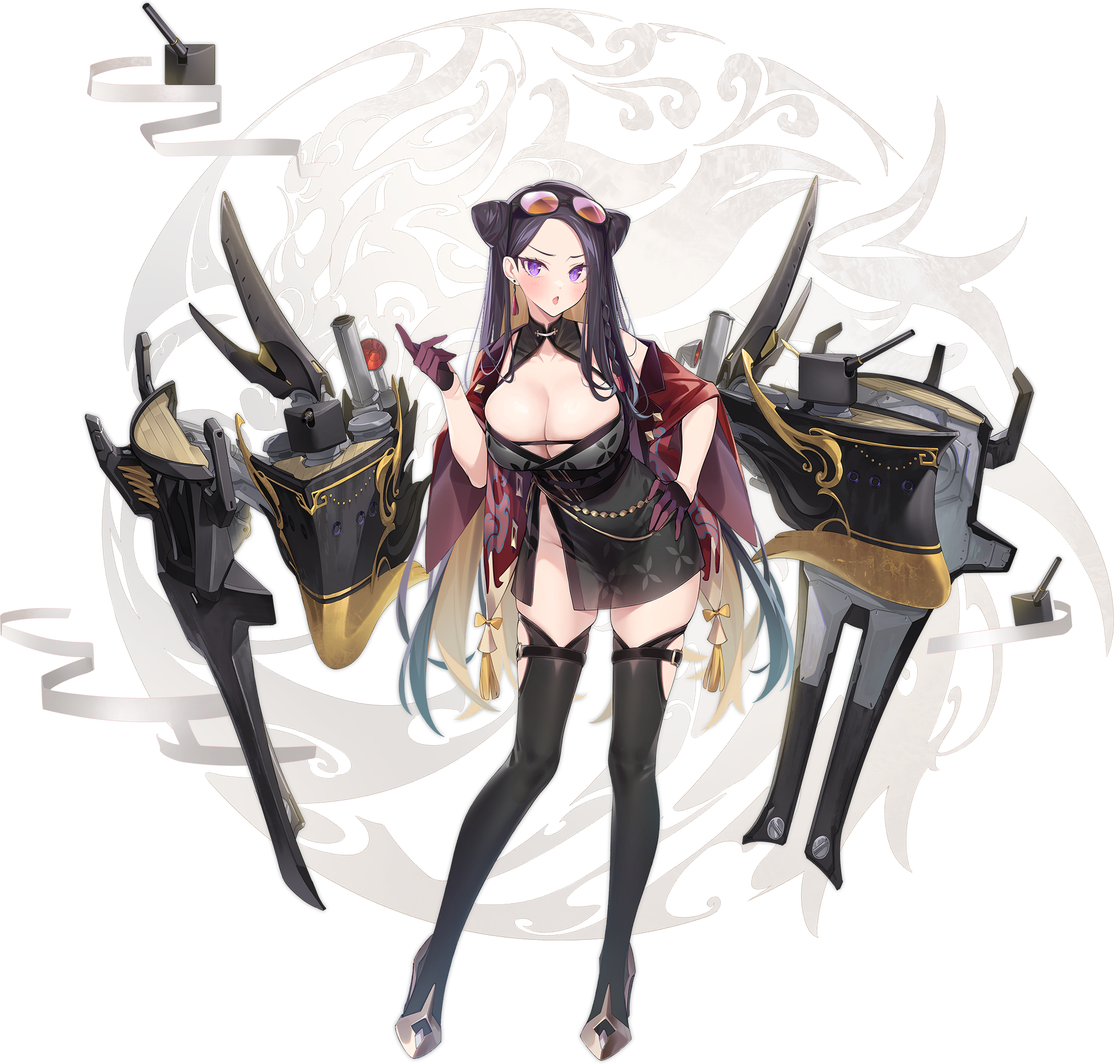person: (397, 50, 782, 1063)
